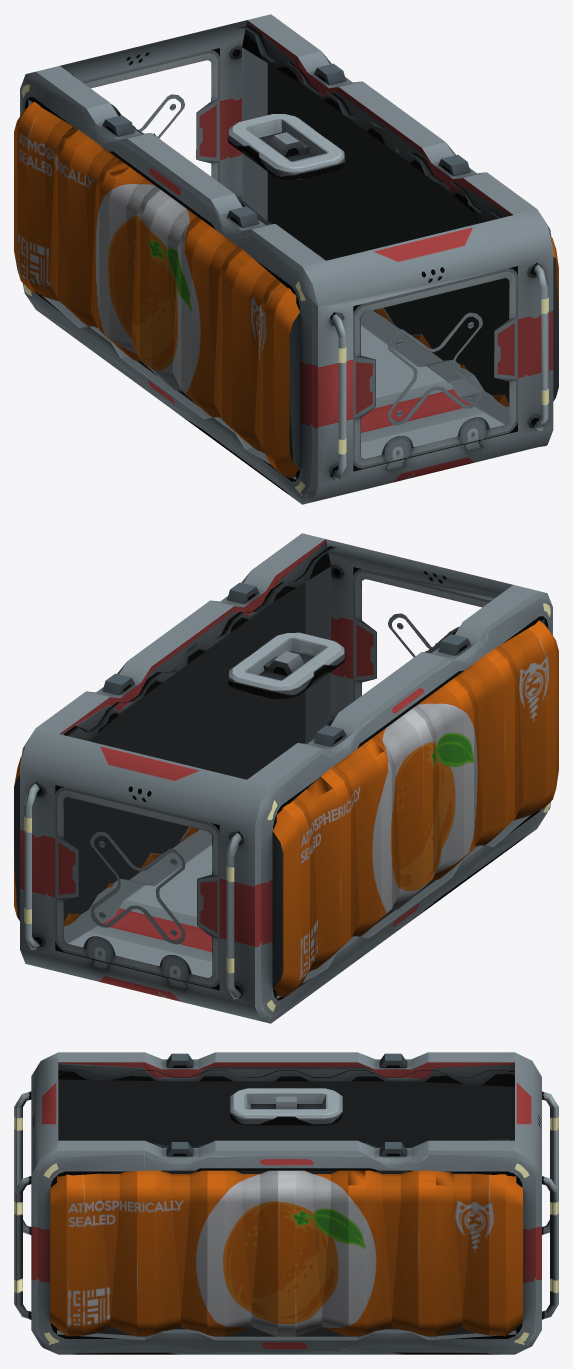
File: env_building_container_lod2.fbx
3 views of the same model, one above another, from view 1: azimuth 30°, elevation 25°; view 2: azimuth 150°, elevation 25°; view 3: azimuth 270°, elevation 25° (orthographic). The views are drawn at different scales.
Visible parts, largest first — view 1: polySurface783; view 2: polySurface783; view 3: polySurface783.
Part boxes in pixels (left/top/right/bottom): polySurface783: left=14, top=14, right=558, bottom=504; polySurface783: left=14, top=533, right=558, bottom=1023; polySurface783: left=14, top=1052, right=558, bottom=1354.
Bounding box in the file's own units: 19.98 × 16.24 × 38.94.
